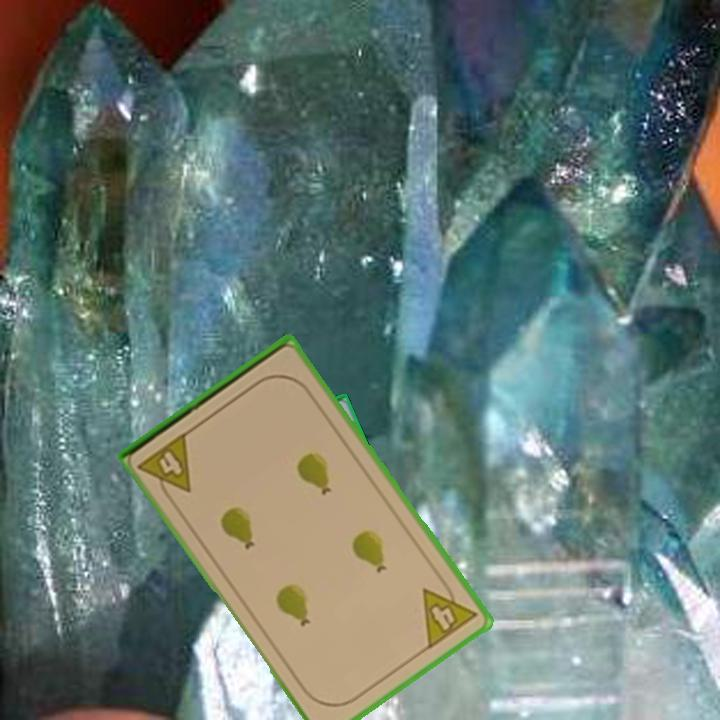4p: (419, 573, 480, 653), (134, 428, 195, 506)
